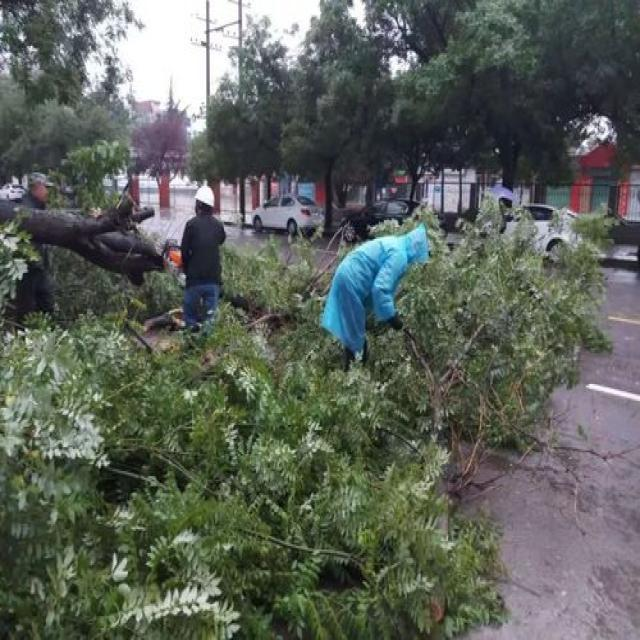fallen_object: (12, 194, 185, 290)
